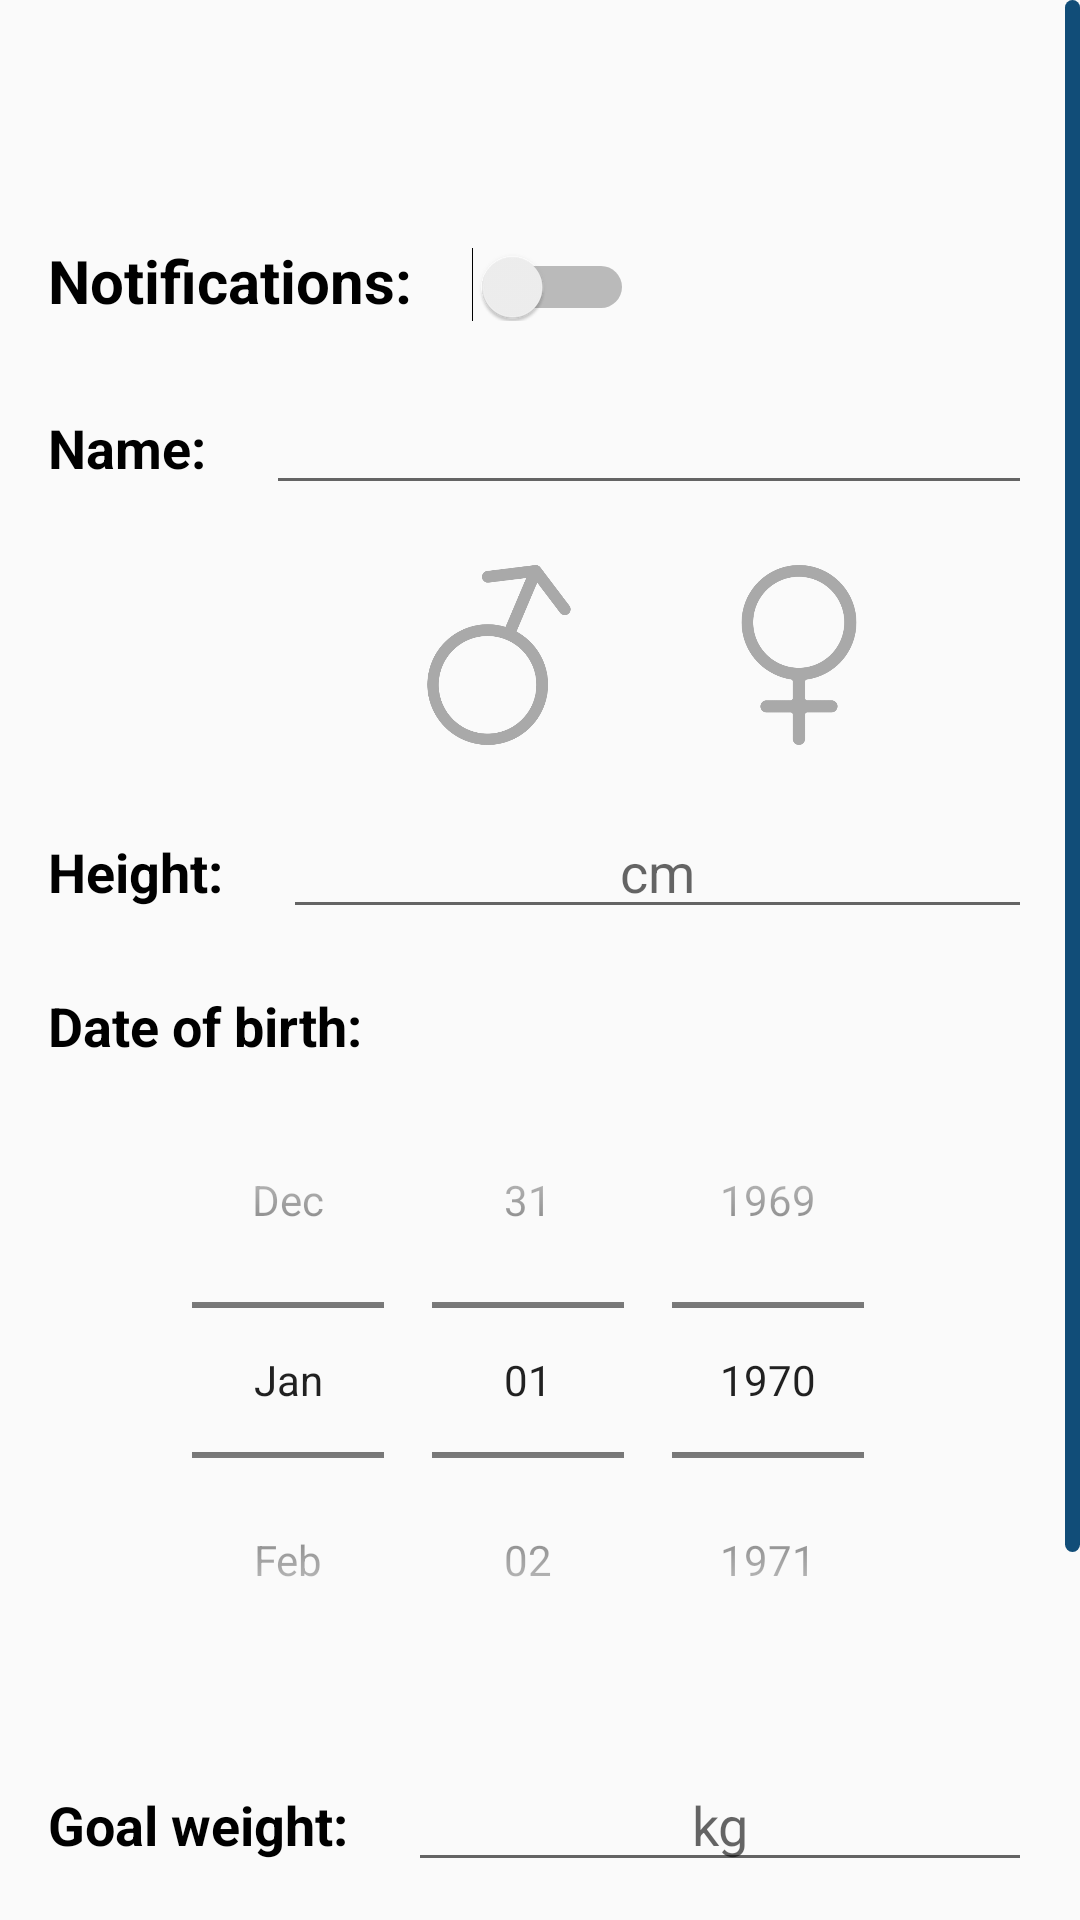

Where icons sit on this 1080×1920 app screen, as (x1, y1, x2, y2):
gender female: (742, 565, 856, 745)
gender male: (427, 565, 571, 745)
